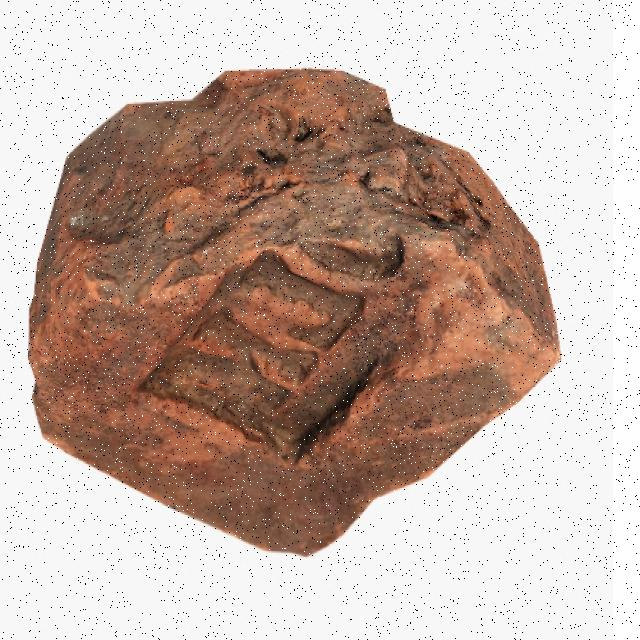bricks_ruin: (26, 68, 564, 556)
